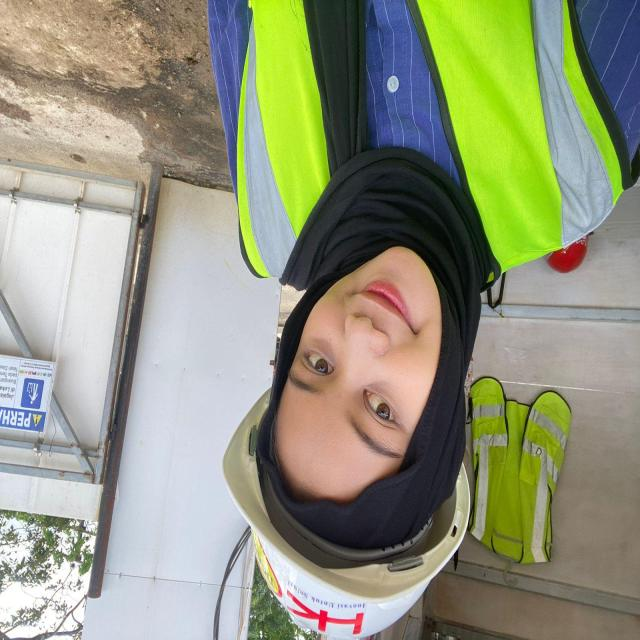safetyhelmet: (219, 288, 476, 639)
